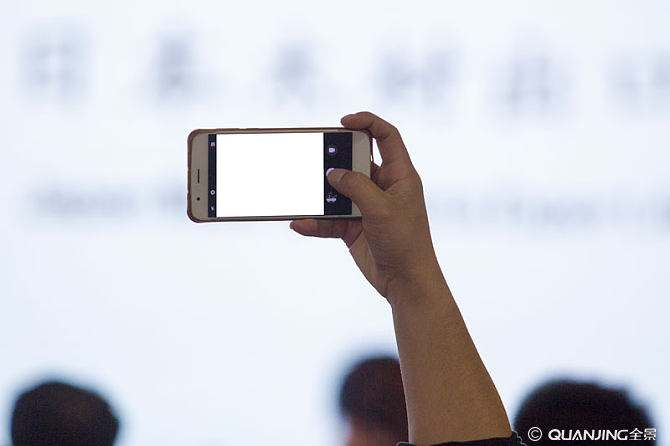taking photos: (180, 107, 452, 308)
